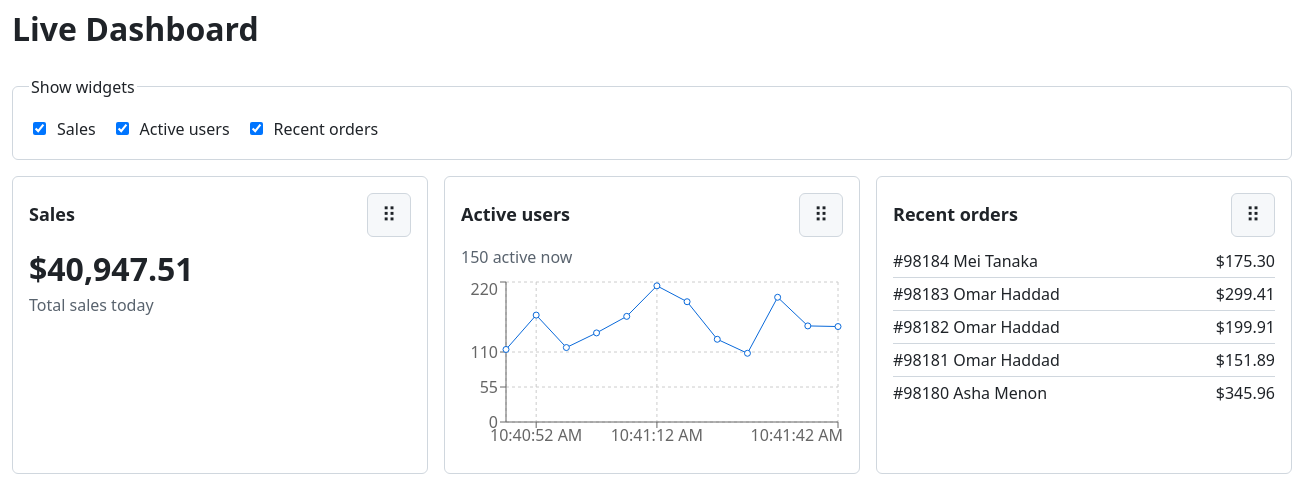
DashboardPage widget layout › restores a hidden widget when the user shows it again
Click the checkbox labelled "Sales".
click(40, 129)  # box left=33, top=122, right=46, bottom=135
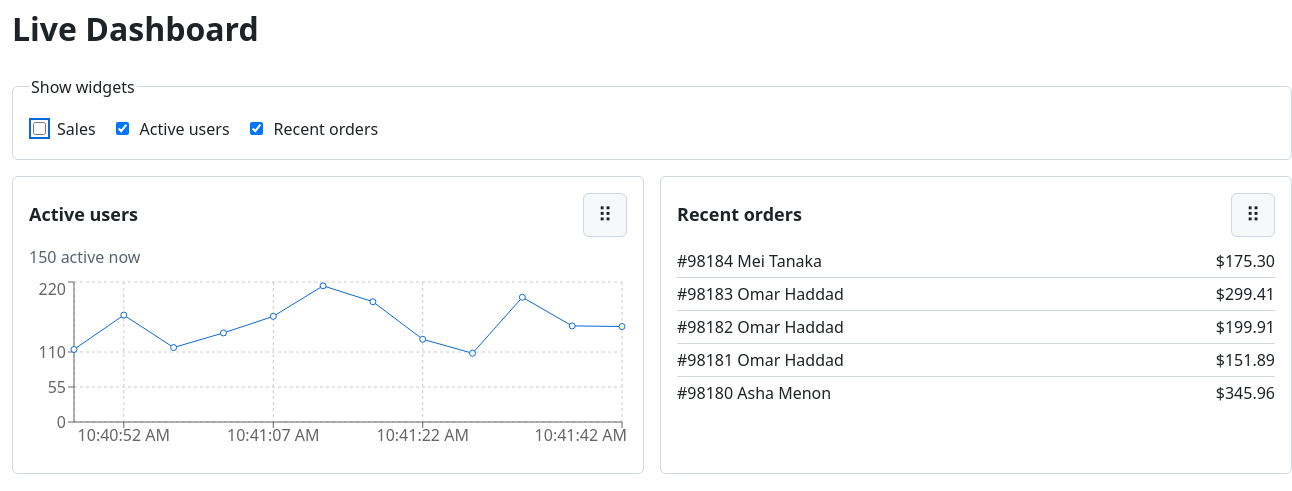
Click the checkbox labelled "Sales".
click(40, 129)  # box left=33, top=122, right=46, bottom=135
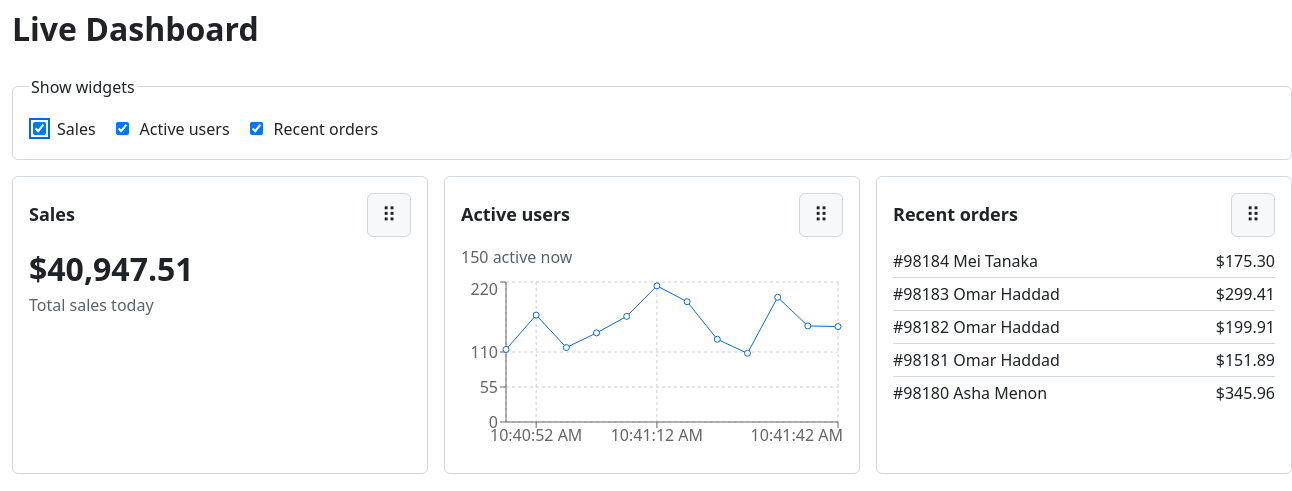
Check: the text "$40,947.51" is shown, box left=29, top=247, right=194, bottom=290
